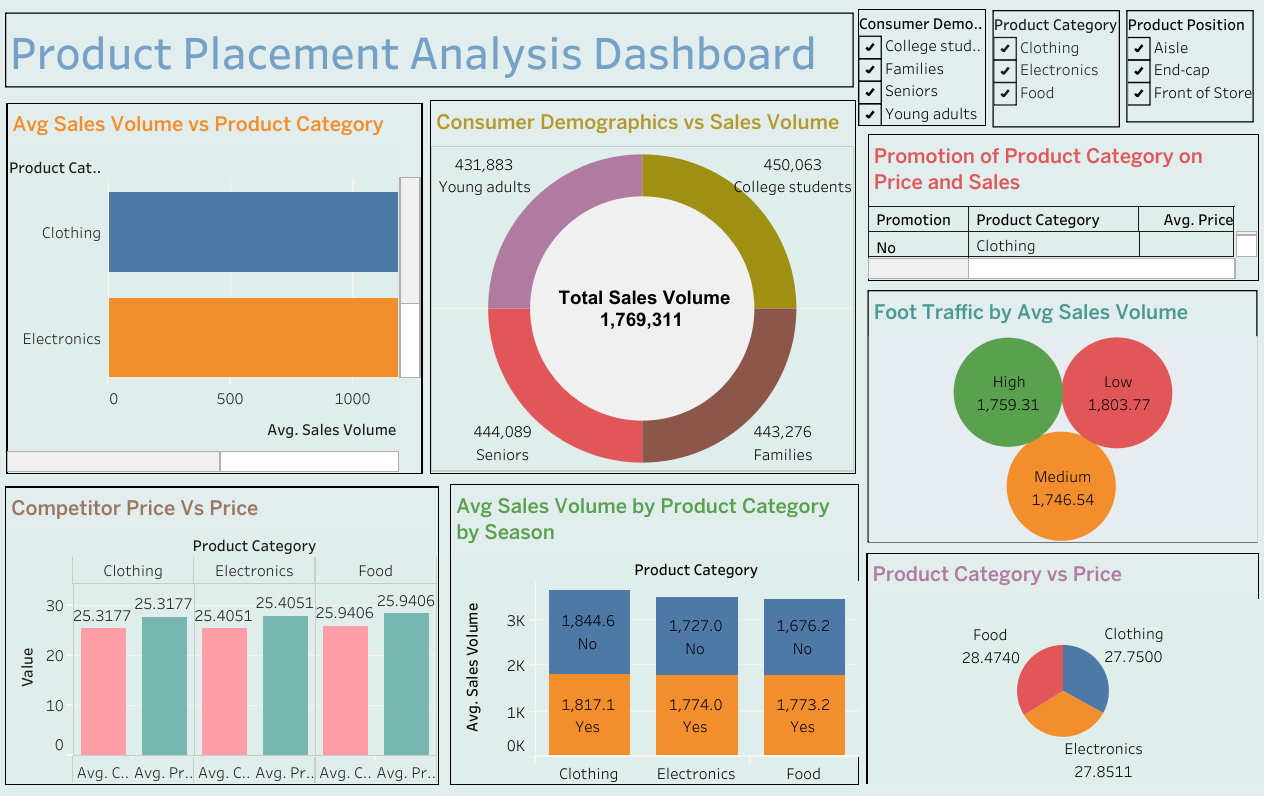

Layout of this report page (visuals, bound fields, positions):
{"tool":"tableau","page":{"name":"Dashboard 1","canvas":[1000,1000],"units":"permille","ordinal":0},"visuals":[{"type":"filter","title":"Consumer Demographics vs Sales Volume","param":"[federated.17i13wh1jydlhb18dohp20t1z29k].[none:Customer Demographics:nk]","box":[678,11.8,101.1,146.9]},{"type":"filter","title":"Avg Sales Volume vs Product Category","param":"[federated.17i13wh1jydlhb18dohp20t1z29k].[none:Product Category:nk]","box":[784.6,12.9,101.1,146.9]},{"type":"filter","title":"Foot Traffic by Avg Sales Volume","param":"[federated.17i13wh1jydlhb18dohp20t1z29k].[none:Product Position:nk]","box":[890.5,12.9,100.5,141]},{"type":"title","box":[3.6,15.3,671.1,95.2]},{"type":"worksheet","title":"Consumer Demographics vs Sales Volume","mark":"Pie","rows":["Calculation_1955498118119429","Calculation_1955498118119429"],"box":[340.4,125.7,336.8,467.7]},{"type":"worksheet","title":"Avg Sales Volume vs Product Category","mark":"Bar","rows":["Product Category"],"cols":["Sales Volume"],"box":[4.8,128.1,329.5,465.3]},{"type":"worksheet","title":"Promotion of Product Category on Price and Sales","mark":"Automatic","rows":["Promotion","Product Category"],"box":[685.6,168,309,184.5]},{"type":"worksheet","title":"Foot Traffic by Avg Sales Volume","mark":"Circle","box":[685.6,364.3,308.4,316.1]},{"type":"worksheet","title":"Avg Sales Volume by Product Category by Season","mark":"Bar","rows":["Sales Volume"],"cols":["Product Category"],"box":[356.1,606.4,323.2,377.2]},{"type":"worksheet","title":"Competitor Price Vs Price","mark":"Bar","cols":["Product Category"],"box":[3.6,609.9,343.5,374.9]},{"type":"worksheet","title":"Product Category vs Product Price","mark":"Pie","box":[684.4,692.1,310.8,290.2]}]}

Visuals, with their boxes on the dashboard's canvas, which has no fixed pixel size, in thousandths of its width and height (x1, y1, x2, y2). These are canvas units, not pixel positions in the 1264x796 screenshot, which may show the page scaled, cropped or inside an application window:
"Consumer Demographics vs Sales Volume" filter: bbox=[678, 12, 779, 159]
"Avg Sales Volume vs Product Category" filter: bbox=[785, 13, 886, 160]
"Foot Traffic by Avg Sales Volume" filter: bbox=[890, 13, 991, 154]
title: bbox=[4, 15, 675, 110]
"Consumer Demographics vs Sales Volume" worksheet (Pie marks): bbox=[340, 126, 677, 593]
"Avg Sales Volume vs Product Category" worksheet (Bar marks): bbox=[5, 128, 334, 593]
"Promotion of Product Category on Price and Sales" worksheet: bbox=[686, 168, 995, 352]
"Foot Traffic by Avg Sales Volume" worksheet (Circle marks): bbox=[686, 364, 994, 680]
"Avg Sales Volume by Product Category by Season" worksheet (Bar marks): bbox=[356, 606, 679, 984]
"Competitor Price Vs Price" worksheet (Bar marks): bbox=[4, 610, 347, 985]
"Product Category vs Product Price" worksheet (Pie marks): bbox=[684, 692, 995, 982]
